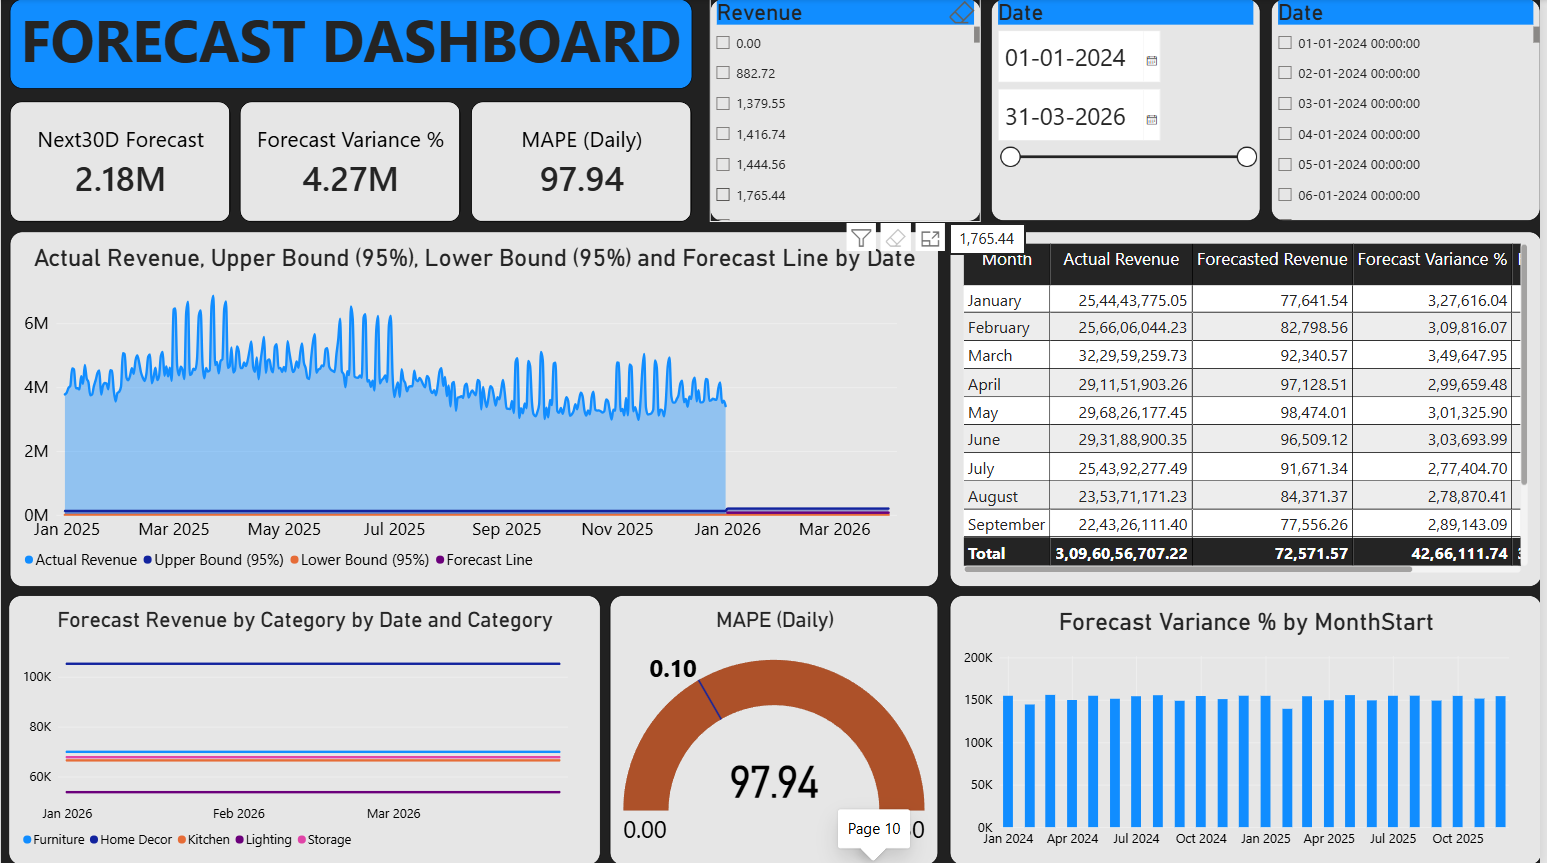

Layout of this report page (visuals, bound fields, positions):
{"tool":"powerbi","page":{"name":"Page 10","canvas":[1920,1080],"ordinal":8},"visuals":[{"type":"textbox","box":[10.5,0,851.2,111.6],"z":0},{"type":"cardVisual","fields":{"Data":["_Measures.Forecasted Revenue (Next 30D)"]},"box":[10.5,127.3,275.6,150],"z":1},{"type":"cardVisual","fields":{"Data":["_Measures.Forecast Variance %"]},"box":[298.3,127.3,275.6,150],"z":2},{"type":"cardVisual","fields":{"Data":["_Measures.MAPE"]},"box":[586,127.3,275.6,150],"z":3},{"type":"areaChart","fields":{"Category":["DimDate.Date"],"Y":["_Measures.Actual Revenue","DimDate.Upper Bound (95%)","DimDate.Lower Bound (95%)","DimDate.Forecast Line"]},"box":[10.5,289.5,1158.1,443],"z":4},{"type":"lineChart","fields":{"Category":["DimDate.Date"],"Series":["sku_master (2).Category"],"Y":["_Measures.Forecast Revenue by Category"]},"box":[10,743,738,337],"z":5},{"type":"tableEx","fields":{"Values":["calendar (2).date.Variation.Date Hierarchy.Month","_Measures.Actual Revenue","_Measures.Forecasted Revenue","_Measures.Forecast Variance %","_Measures.Forecast Variance"]},"box":[1182.6,289.5,738,443],"z":6},{"type":"clusteredColumnChart","fields":{"Category":["DimDate.MonthStart"],"Y":["_Measures.Forecast Variance %"]},"box":[1182.6,743,738,337],"z":7},{"type":"gauge","fields":{"Y":["_Measures.MAPE (Daily)"]},"box":[758.7,743,409.9,336.6],"z":8},{"type":"slicer","fields":{"Values":["DimDate.Date"]},"box":[1234.9,0,336,277],"z":9},{"type":"slicer","fields":{"Values":["DimDate.Date"]},"box":[1583.7,0,336,277],"z":10},{"type":"slicer","fields":{"Values":["sales_daily (2).Revenue"]},"box":[884.3,0,338.4,277.3],"z":11}]}

Visuals, with their boxes in screenshot pixels (x1, y1, x2, y2), scaled from the page's 1920x1080 canvas onto the 1547x863 screenshot:
textbox: x1=8, y1=0, x2=694, y2=89
cardVisual - _Measures.Forecasted Revenue (Next 30D): x1=8, y1=102, x2=231, y2=222
cardVisual - _Measures.Forecast Variance %: x1=240, y1=102, x2=462, y2=222
cardVisual - _Measures.MAPE: x1=472, y1=102, x2=694, y2=222
areaChart - DimDate.Date x _Measures.Actual Revenue: x1=8, y1=231, x2=942, y2=585
lineChart - DimDate.Date x sku_master (2).Category: x1=8, y1=594, x2=603, y2=862
tableEx - calendar (2).date.Variation.Date Hierarchy.Month x _Measures.Actual Revenue: x1=953, y1=231, x2=1546, y2=585
clusteredColumnChart - DimDate.MonthStart x _Measures.Forecast Variance %: x1=953, y1=594, x2=1546, y2=862
gauge - _Measures.MAPE (Daily): x1=611, y1=594, x2=942, y2=862
slicer - DimDate.Date: x1=995, y1=0, x2=1266, y2=221
slicer - DimDate.Date: x1=1276, y1=0, x2=1546, y2=221
slicer - sales_daily (2).Revenue: x1=713, y1=0, x2=985, y2=222
